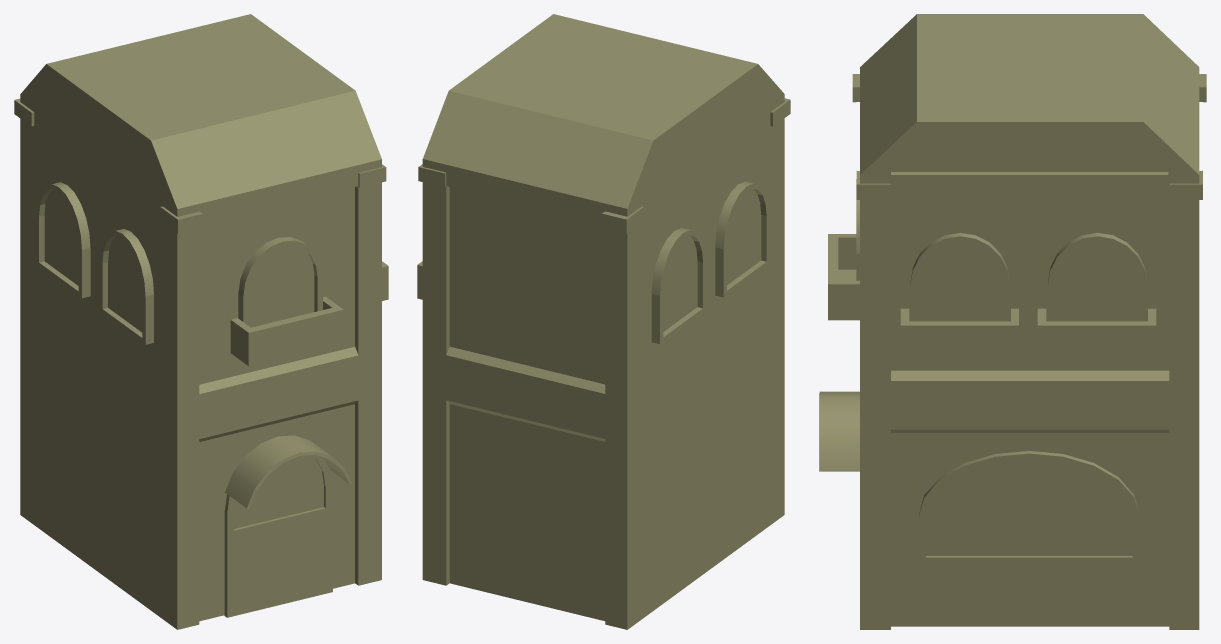
Rendered from House01.fbx.
3 views of the same model, side by side, from view 1: azimuth 30°, elevation 25°; view 2: azimuth 150°, elevation 25°; view 3: azimuth 270°, elevation 25° (orthographic). The views are drawn at different scales.
Parts seen in each view (by area): view 1: House01; view 2: House01; view 3: House01.
Boxes of the visible parts, left/top/right/bottom form: House01: left=14, top=14, right=388, bottom=629; House01: left=417, top=14, right=790, bottom=629; House01: left=819, top=14, right=1206, bottom=629.
Bounding box in the file's own units: 3.28 × 6.18 × 4.27.
